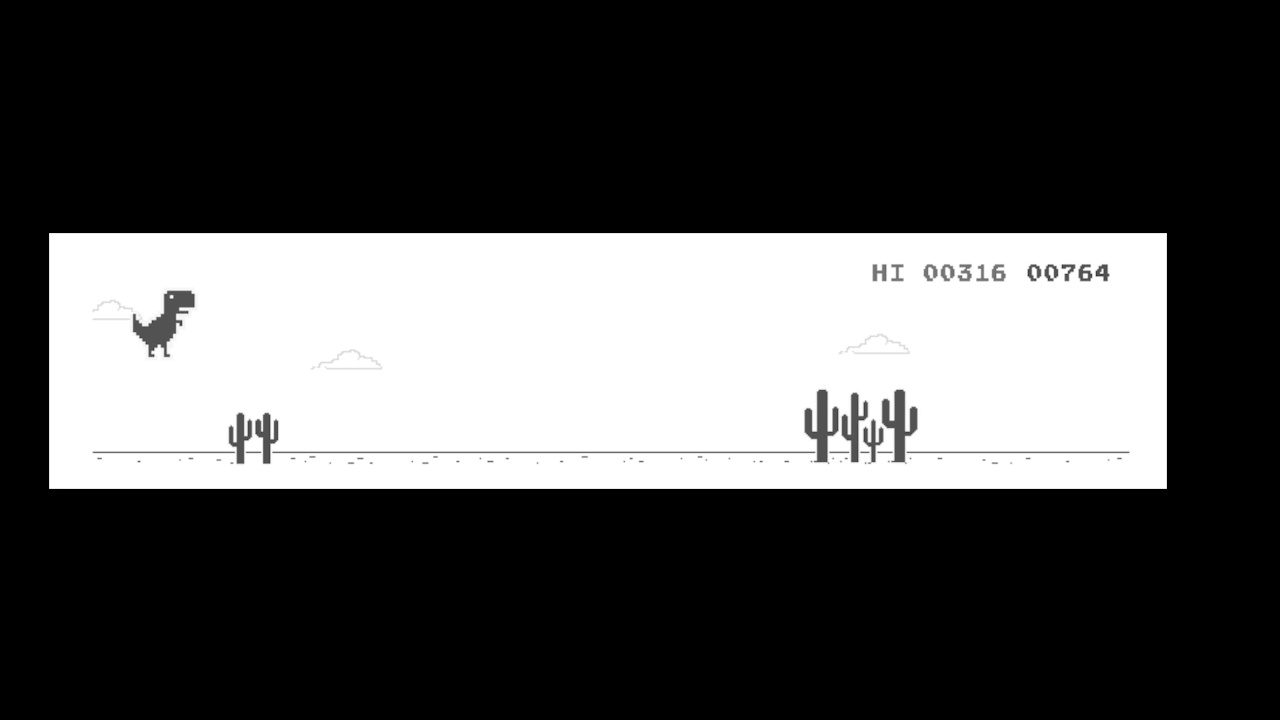bigthree: (804, 384, 920, 465)
dino: (130, 288, 195, 356)
small2: (225, 406, 282, 466)
